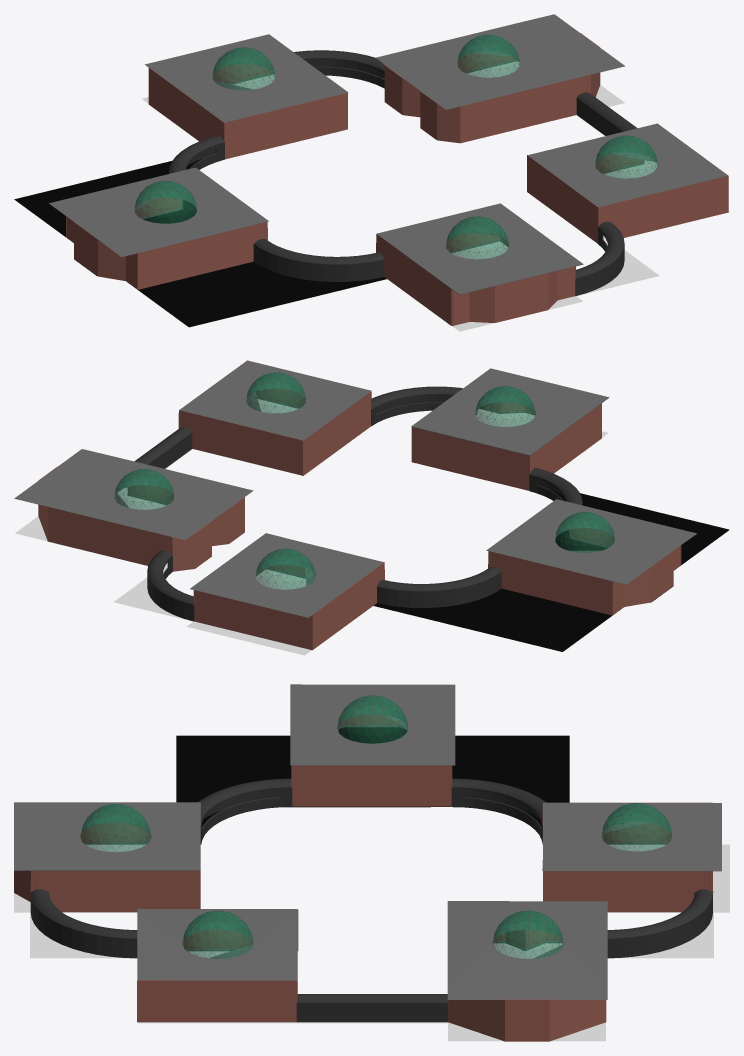
File: Museo.fbx
The picture shows the model from 3 angles, top to bottom: view 1: azimuth 30°, elevation 25°; view 2: azimuth 150°, elevation 25°; view 3: azimuth 270°, elevation 25°; orthographic projection. The views are drawn at different scales.
Visible parts, largest first — view 1: TechoSala4, PisoSala1, Techo, TechoSala2, TechoSALA5, TechoSala3, Cubo.020, Cubo.011, PasilloEnt1, Cubo.008, Cubo.003, PasilloDer (+22 smaller); view 2: TechoSala4, PisoSala1, Techo, TechoSala2, TechoSALA5, TechoSala3, Cubo.021, Cubo.009, PasilloEnt2, Cubo.015, Cubo.024, PasilloIzq (+22 smaller); view 3: TechoSala4, PisoSala1, Techo, TechoSala2, TechoSALA5, TechoSala3, Cubo.007, Pared, Cubo.017, Cubo.012, Cubo.006, Puerta (+18 smaller).
Part boxes in pixels (x1,y1,x2,y2): TechoSala4: (375,14,624,109); PisoSala1: (14,158,386,327); Techo: (49,167,268,256); TechoSala2: (376,203,583,294); TechoSALA5: (145,34,348,122); TechoSala3: (527,123,727,207); Cubo.020: (460,75,590,142); Cubo.011: (224,93,347,159); PasilloEnt1: (137,222,267,289); Cubo.008: (598,176,727,237); Cubo.003: (452,267,575,325); PasilloDer: (253,239,384,281); TechoSala4: (14,449,253,539); PisoSala1: (373,489,729,651); Techo: (486,499,696,584); TechoSala2: (411,368,609,455); TechoSALA5: (190,533,383,617); TechoSala3: (179,360,371,440); Cubo.021: (411,427,529,490); Cubo.009: (178,410,302,475); PasilloEnt2: (488,551,612,615); Cubo.015: (48,507,172,565); Cubo.024: (194,590,311,649); PasilloIzq: (377,567,501,607); TechoSala4: (447,901,607,999); PisoSala1: (176,727,569,843); Techo: (290,684,455,765); TechoSala2: (14,802,200,870); TechoSALA5: (542,802,721,871); TechoSala3: (137,908,297,980); Cubo.007: (137,980,296,1022); Pared: (292,765,451,806); Cubo.017: (30,871,199,912); Cubo.012: (543,871,713,912); Cubo.006: (448,989,606,1041); Puerta: (296,994,447,1022).
Bounding box in the file's own units: 16740 × 1788 × 16066.
